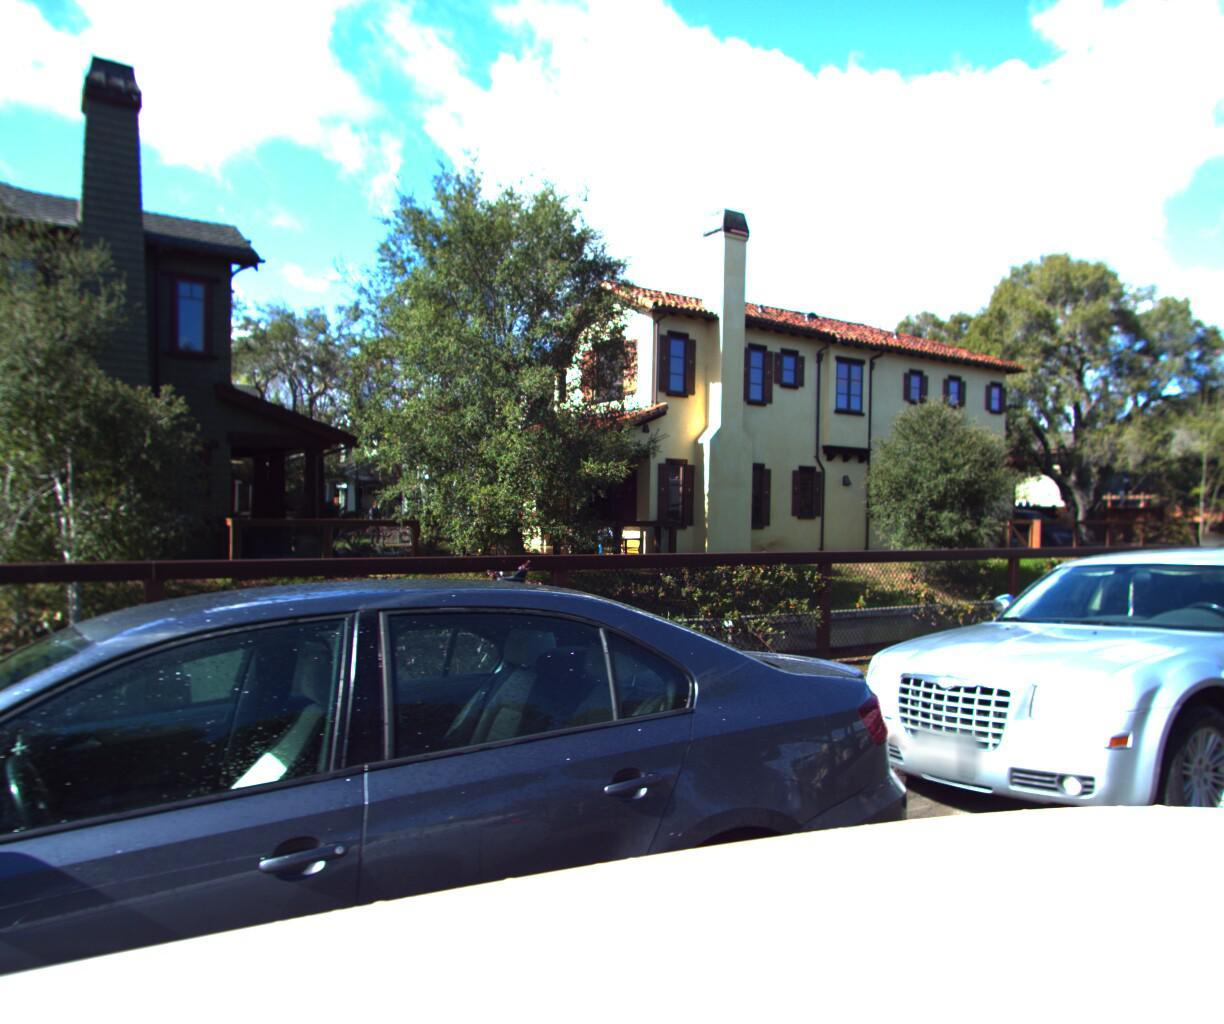car: (0, 546, 1031, 1024), (809, 527, 1224, 879)
